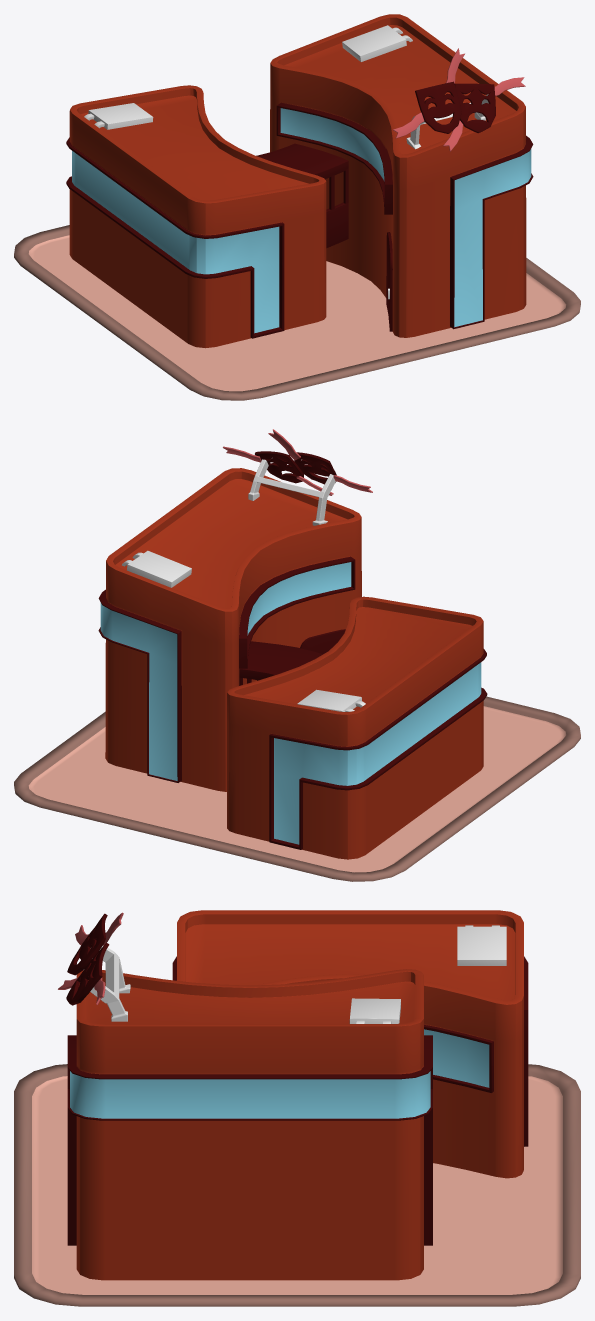
The model's file is Art_Level_02.fbx.
The picture shows the model from 3 angles, top to bottom: view 1: azimuth 30°, elevation 25°; view 2: azimuth 150°, elevation 25°; view 3: azimuth 270°, elevation 25°; orthographic projection. The views are drawn at different scales.
Parts seen in each view (by area): view 1: Cylinder.001, Plane.012, Mascaras; view 2: Cylinder.001, Plane.012, Mascaras; view 3: Cylinder.001, Plane.012, Mascaras.
Boxes of the visible parts, bbox=[...] form: Cylinder.001: bbox=[66, 14, 533, 348]; Plane.012: bbox=[14, 225, 580, 400]; Mascaras: bbox=[393, 48, 525, 151]; Cylinder.001: bbox=[98, 468, 487, 859]; Plane.012: bbox=[14, 696, 580, 881]; Mascaras: bbox=[223, 429, 372, 525]; Cylinder.001: bbox=[67, 910, 528, 1280]; Plane.012: bbox=[14, 1064, 580, 1306]; Mascaras: bbox=[58, 912, 130, 1021].
Size of the model in its own units: 2000 by 1292 by 2000.
